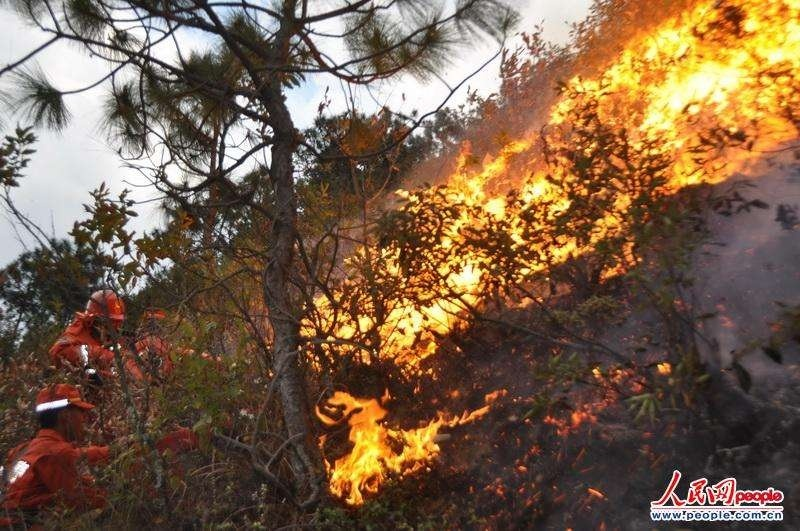fire: (447, 1, 800, 246), (317, 188, 492, 353), (317, 386, 461, 503)
